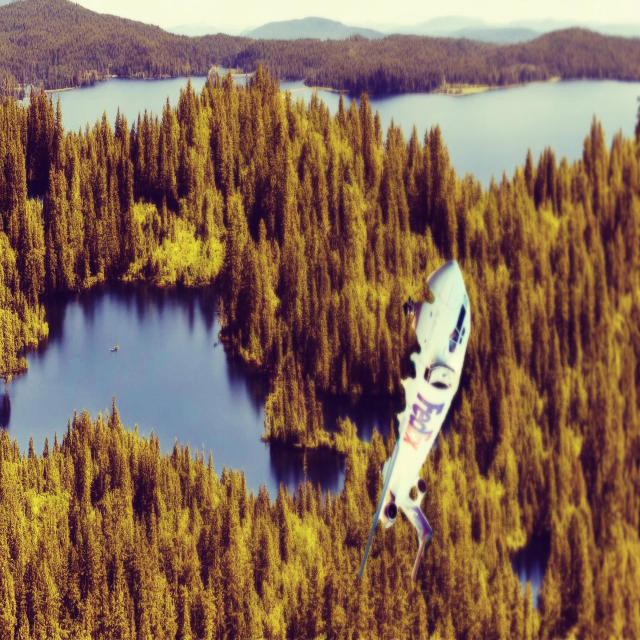airplane: (357, 258, 471, 582)
